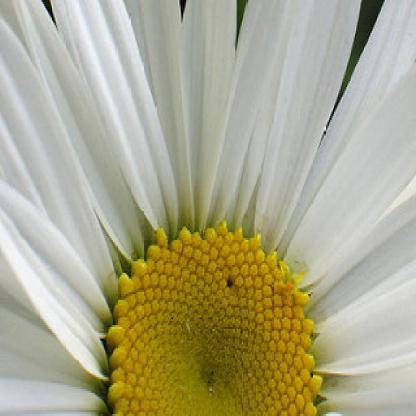ASTER: (7, 13, 402, 402)
